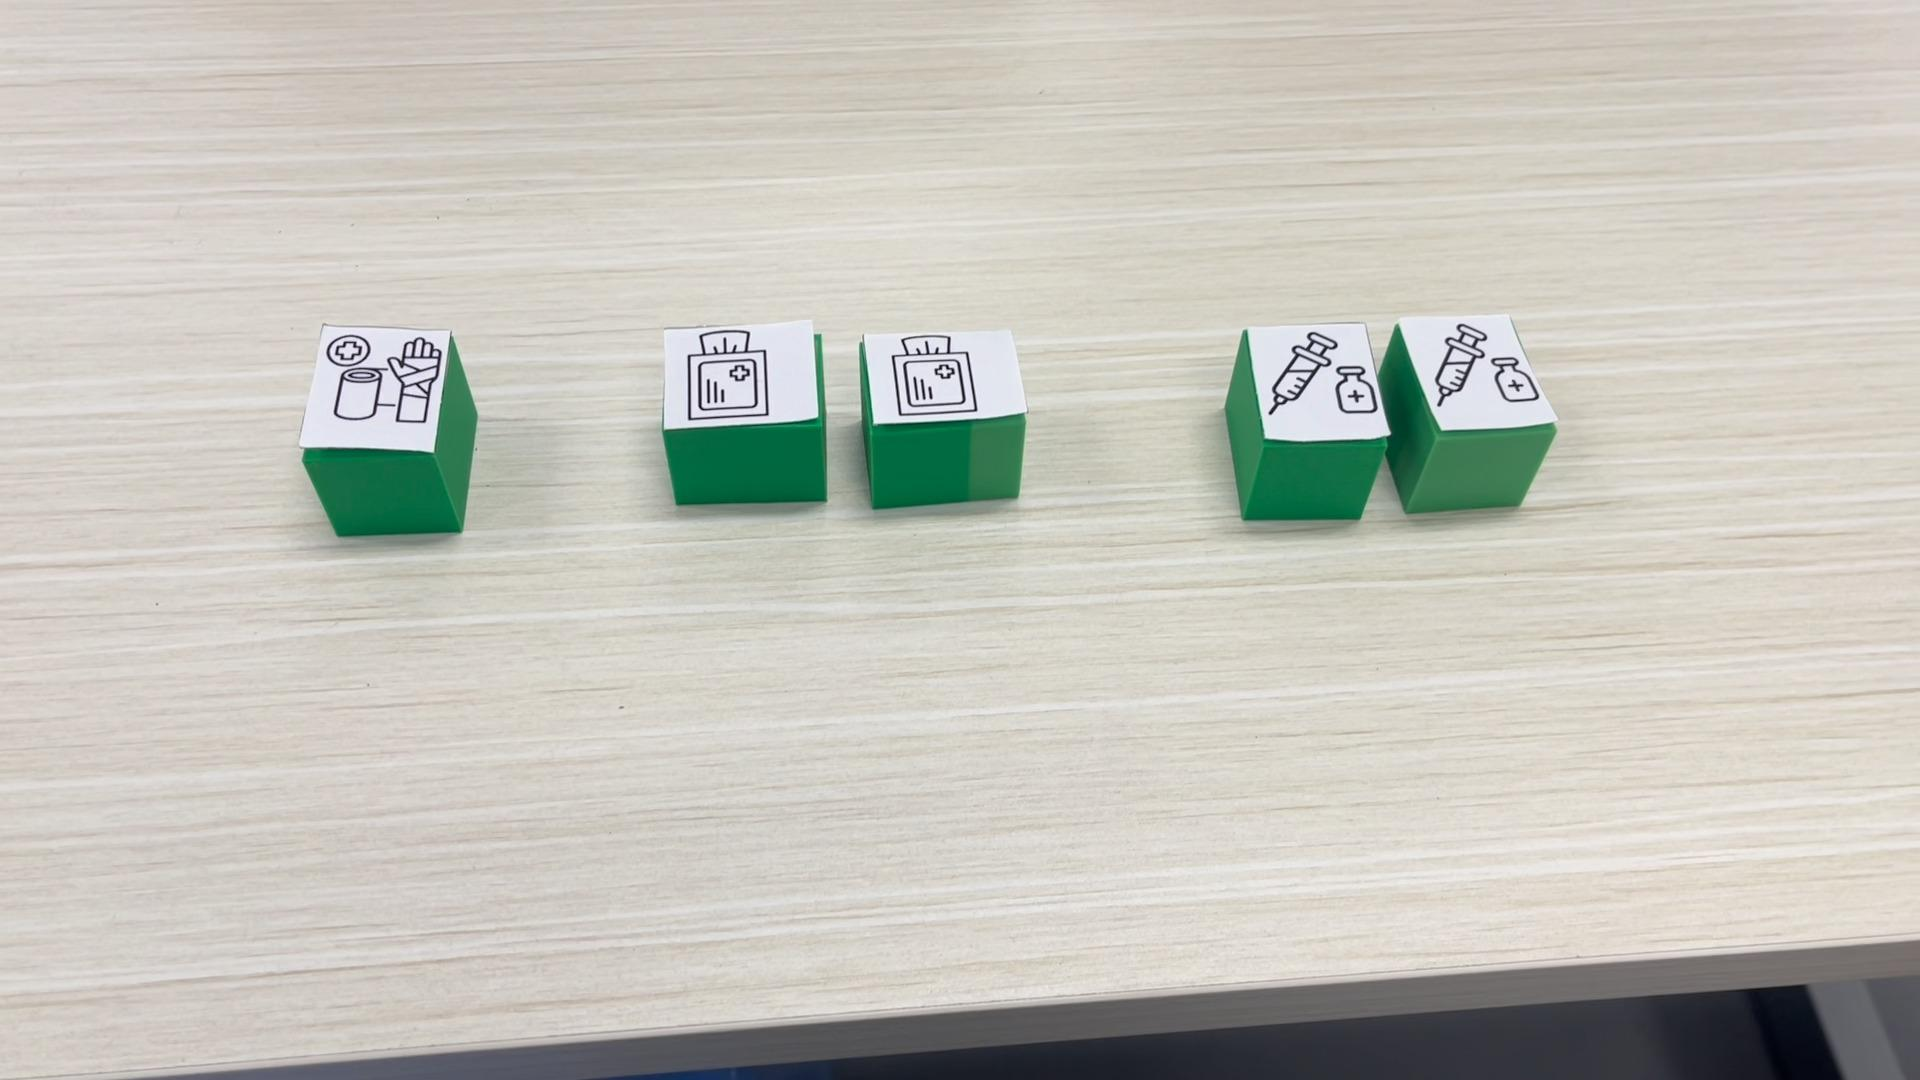Bandages: (297, 324, 477, 535)
Gauze: (861, 323, 1030, 509), (659, 316, 825, 505)
antiseptic cream: (1377, 311, 1559, 516), (1226, 320, 1393, 522)
